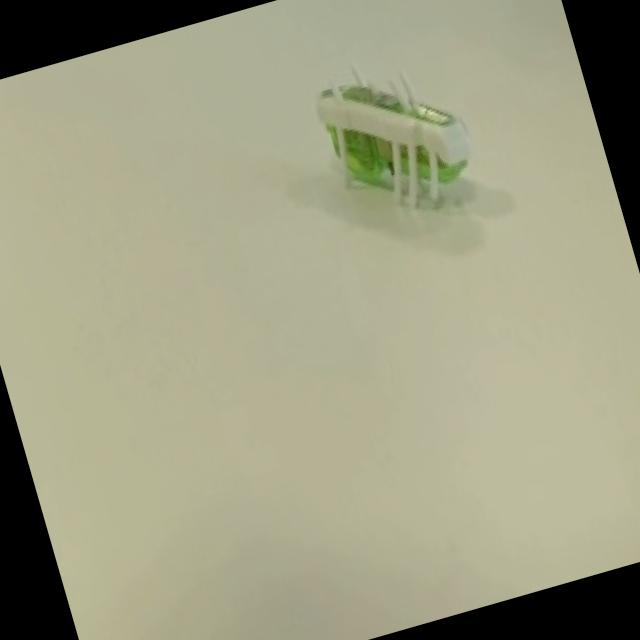4_NanoBug_Blanco: (252, 2, 526, 290)
